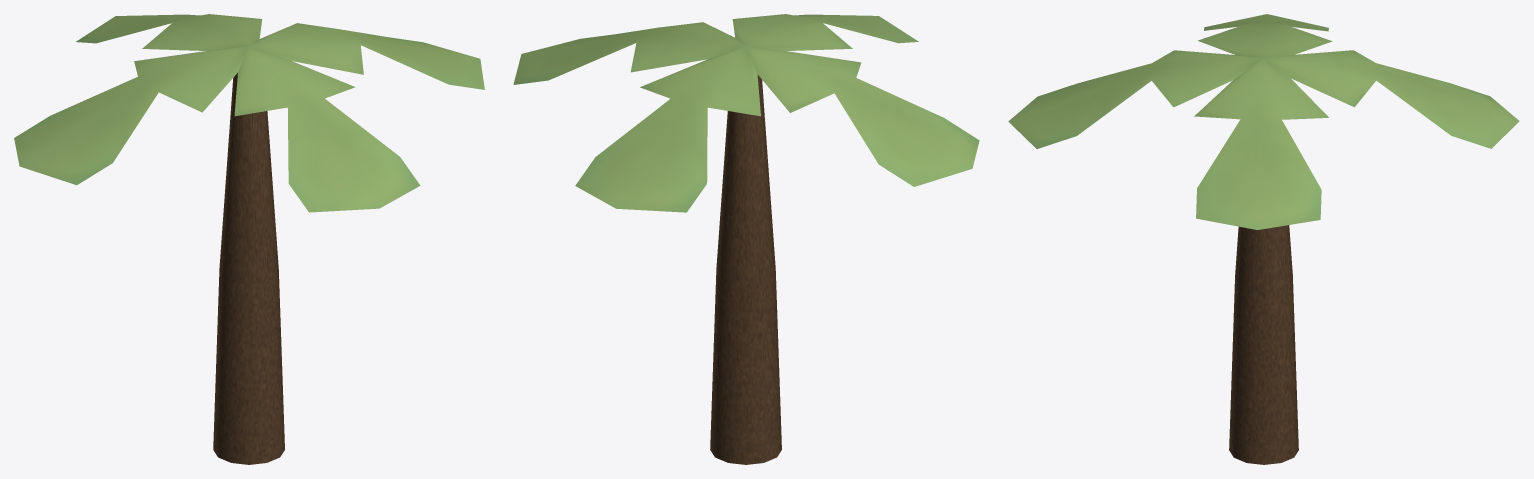
File: tree2.dae
3 views of the same model, side by side, from view 1: azimuth 30°, elevation 25°; view 2: azimuth 150°, elevation 25°; view 3: azimuth 270°, elevation 25° (orthographic). The views are drawn at different scales.
Parts seen in each view (by area): view 1: tree_2; view 2: tree_2; view 3: tree_2.
Boxes of the visible parts, x1,y1,x2,y2 form: tree_2: (14, 14, 484, 464); tree_2: (513, 14, 979, 464); tree_2: (1008, 14, 1519, 464).
Size of what is drawn, in the model's own units: 5.6 by 5.6 by 4.73.
2 materials, 2 textured.
